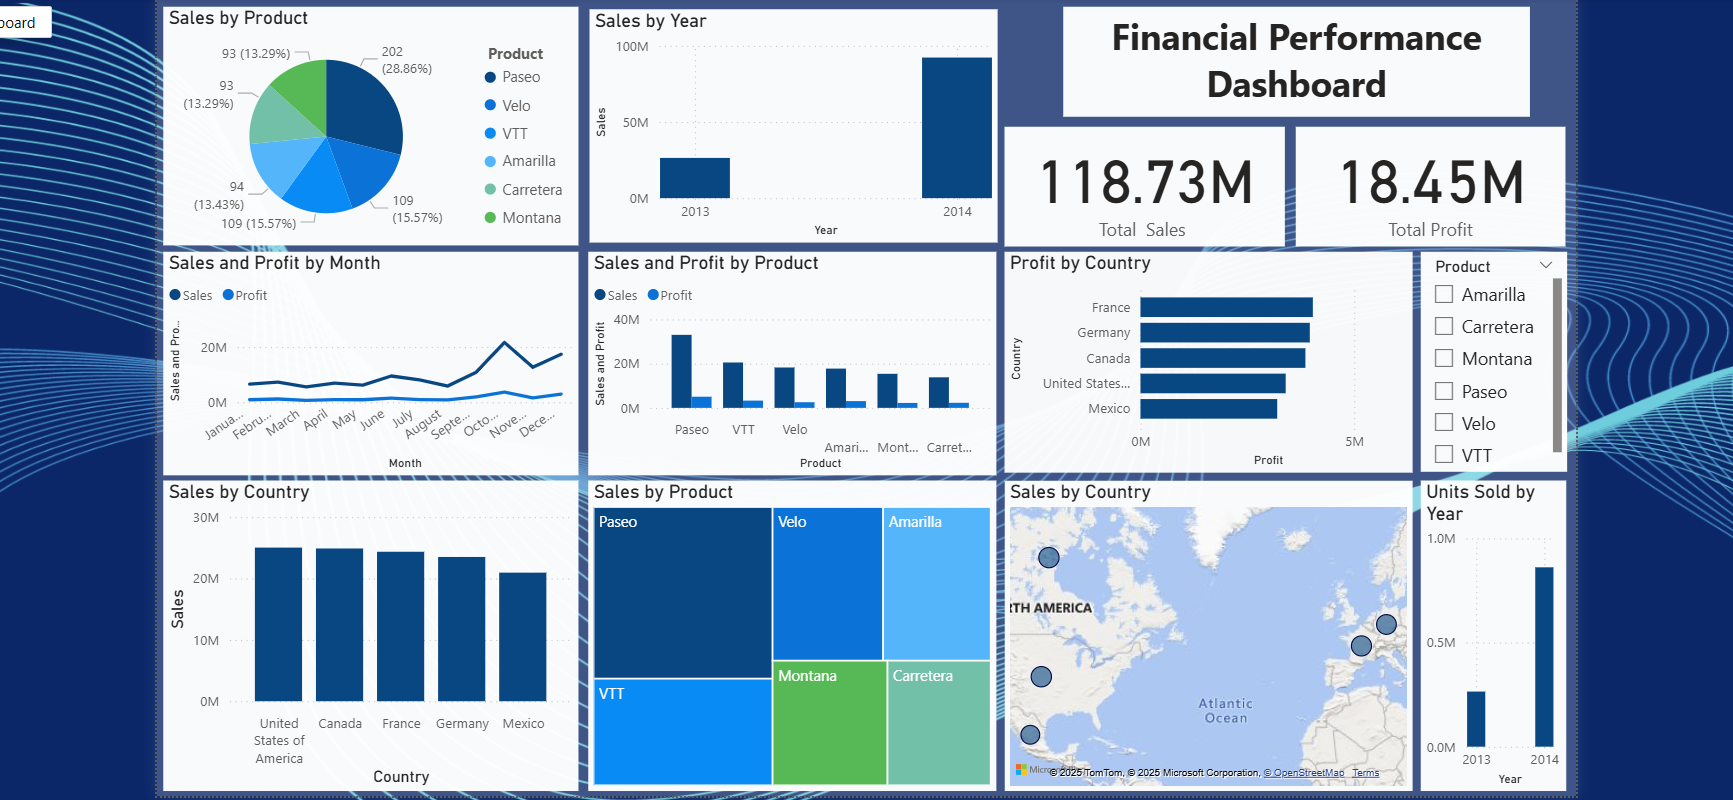

The page's visual inventory and layout, read from the dashboard file:
{"tool":"powerbi","page":{"name":"Page 1","canvas":[1280,720],"ordinal":0},"visuals":[{"type":"slicer","fields":{"Values":["Financials. Product "]},"box":[1139.7,228.7,132.1,198.1],"z":0},{"type":"pieChart","fields":{"Y":["CountNonNull(Financials.  Sales )"],"Category":["Financials. Product "]},"box":[6.1,7.3,374.2,215.2],"z":1000},{"type":"lineChart","fields":{"Y":["Sum(Financials.  Sales )","Sum(Financials.Profit)"],"Category":["Financials.Date.Variation.Date Hierarchy.Month"]},"box":[6.1,228.7,374.2,201.8],"z":2000},{"type":"treemap","fields":{"Values":["Sum(Financials.  Sales )"],"Group":["Financials. Product "]},"box":[388.9,435.3,368.1,280],"z":3000},{"type":"clusteredColumnChart","fields":{"Y":["Sum(Financials.  Sales )","Sum(Financials.Profit)"],"Category":["Financials. Product "]},"box":[388.9,228.7,368.1,201.8],"z":5000},{"type":"clusteredColumnChart","fields":{"Category":["Financials.Country"],"Y":["Sum(Financials.  Sales )"]},"box":[6.1,435.3,374.2,280],"z":6000},{"type":"columnChart","fields":{"Y":["Sum(Financials.  Sales )"],"Category":["Financials.Date.Variation.Date Hierarchy.Year"]},"box":[390.1,9.8,368.1,210.3],"z":7000},{"type":"map","fields":{"Category":["Financials.Country"],"Size":["Sum(Financials.  Sales )"]},"box":[764.3,435.3,368.1,280],"z":8000},{"type":"clusteredBarChart","fields":{"Category":["Financials.Country"],"Y":["Sum(Financials.Profit)"]},"box":[764.3,228.7,368.1,199.3],"z":9000},{"type":"card","fields":{"Values":["Sum(Financials.  Sales )"]},"box":[764.3,116.2,253.1,107.6],"z":9001},{"type":"card","fields":{"Values":["Sum(Financials.Profit)"]},"box":[1027.2,116.2,243.3,107.6],"z":9002},{"type":"lineClusteredColumnComboChart","fields":{"Category":["Financials.Date.Variation.Date Hierarchy.Year"],"Y":["Sum(Financials. Units Sold )"]},"box":[1139.7,435.3,130.8,280],"z":9003},{"type":"textbox","box":[816.9,7.3,420.7,99],"z":9004}]}

Visuals, with their boxes in screenshot pixels (x1, y1, x2, y2):
slicer - Financials. Product : select_region(1409, 250, 1554, 467)
pieChart - CountNonNull(Financials.  Sales ) x Financials. Product : select_region(169, 8, 579, 243)
lineChart - Sum(Financials.  Sales ) x Sum(Financials.Profit): select_region(169, 250, 579, 471)
treemap - Sum(Financials.  Sales ) x Financials. Product : select_region(588, 476, 991, 783)
clusteredColumnChart - Sum(Financials.  Sales ) x Sum(Financials.Profit): select_region(588, 250, 991, 471)
clusteredColumnChart - Financials.Country x Sum(Financials.  Sales ): select_region(169, 476, 579, 783)
columnChart - Sum(Financials.  Sales ) x Financials.Date.Variation.Date Hierarchy.Year: select_region(589, 11, 992, 241)
map - Financials.Country x Sum(Financials.  Sales ): select_region(999, 476, 1401, 783)
clusteredBarChart - Financials.Country x Sum(Financials.Profit): select_region(999, 250, 1401, 468)
card - Sum(Financials.  Sales ): select_region(999, 127, 1276, 245)
card - Sum(Financials.Profit): select_region(1286, 127, 1553, 245)
lineClusteredColumnComboChart - Financials.Date.Variation.Date Hierarchy.Year x Sum(Financials. Units Sold ): select_region(1409, 476, 1553, 783)
textbox: select_region(1056, 8, 1517, 116)
